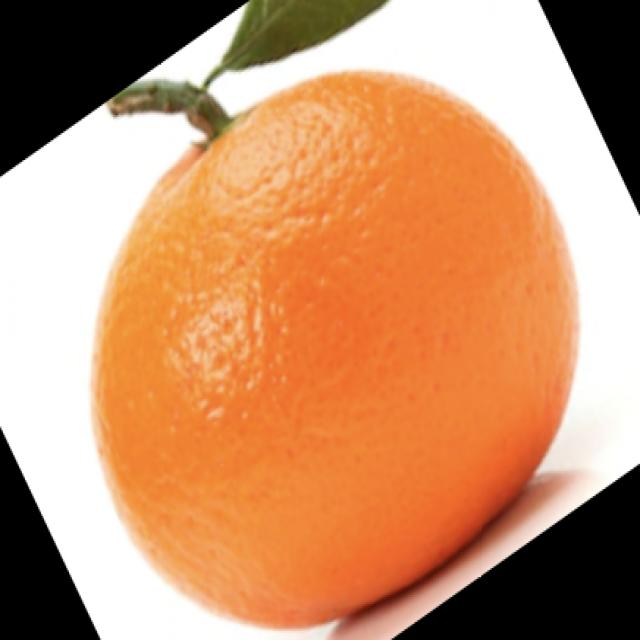fresh: (75, 25, 584, 631)
